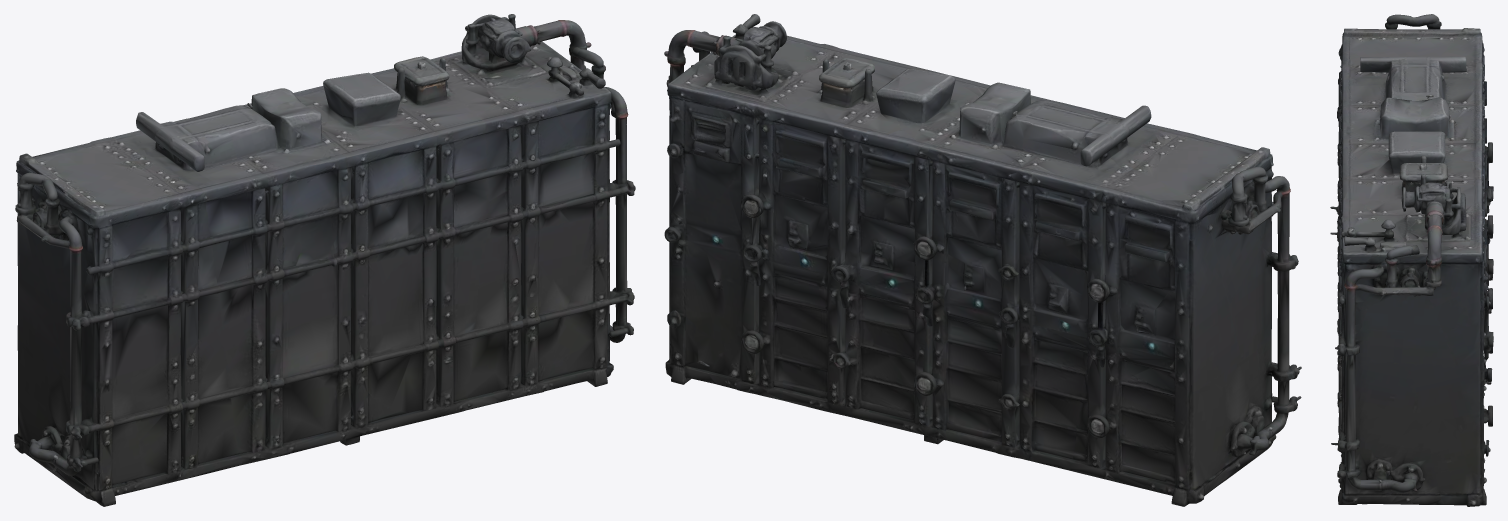
Rendered from machines.glb.
3 renders of one model, left to right at view 1: azimuth 30°, elevation 25°; view 2: azimuth 150°, elevation 25°; view 3: azimuth 270°, elevation 25°, orthographic. The views are drawn at different scales.
Visible parts, largest first — view 1: tripo_node_7c6e39eb-cb36-43a3-8e8f-4a09058abdd9; view 2: tripo_node_7c6e39eb-cb36-43a3-8e8f-4a09058abdd9; view 3: tripo_node_7c6e39eb-cb36-43a3-8e8f-4a09058abdd9.
Part boxes in pixels (x1,y1,x2,y2): tripo_node_7c6e39eb-cb36-43a3-8e8f-4a09058abdd9: [14, 14, 635, 506]; tripo_node_7c6e39eb-cb36-43a3-8e8f-4a09058abdd9: [664, 14, 1301, 506]; tripo_node_7c6e39eb-cb36-43a3-8e8f-4a09058abdd9: [1330, 14, 1493, 506].
Bounding box in the file's own units: 0.9999 × 0.5575 × 0.2786.
1 material, 1 textured.
